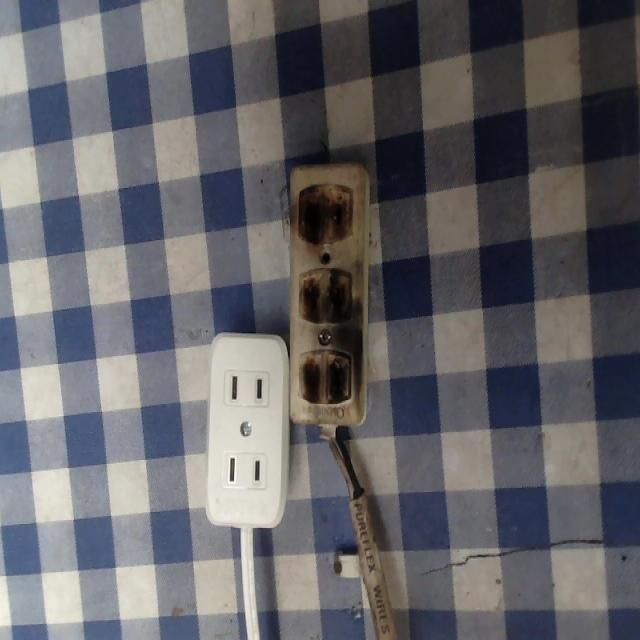-: (294, 178, 355, 246), (291, 264, 356, 327), (290, 346, 355, 406)
